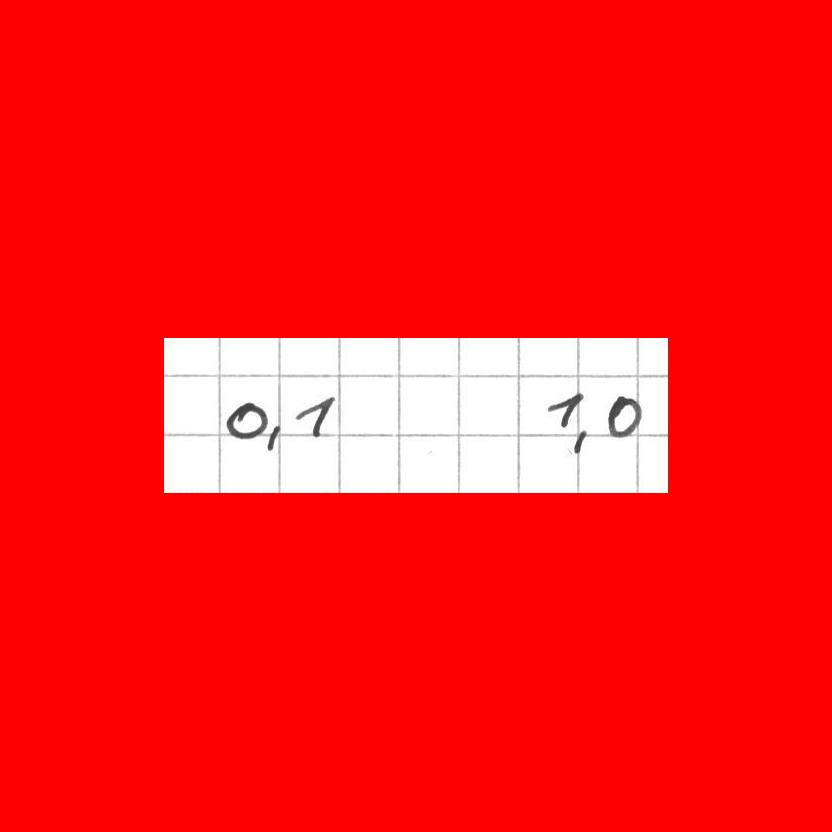Char: (293, 395, 333, 440), (606, 390, 642, 437), (225, 398, 264, 441), (544, 388, 584, 429), (265, 422, 283, 450), (570, 427, 586, 455)
